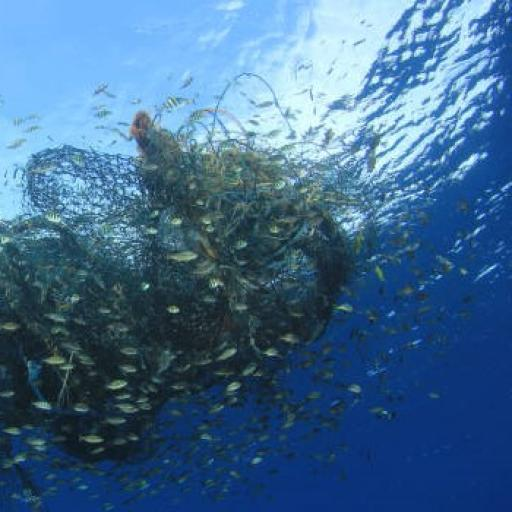net: (0, 70, 336, 481)
